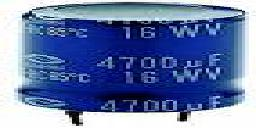Electrolytic-Capacitor: (16, 4, 251, 127)
